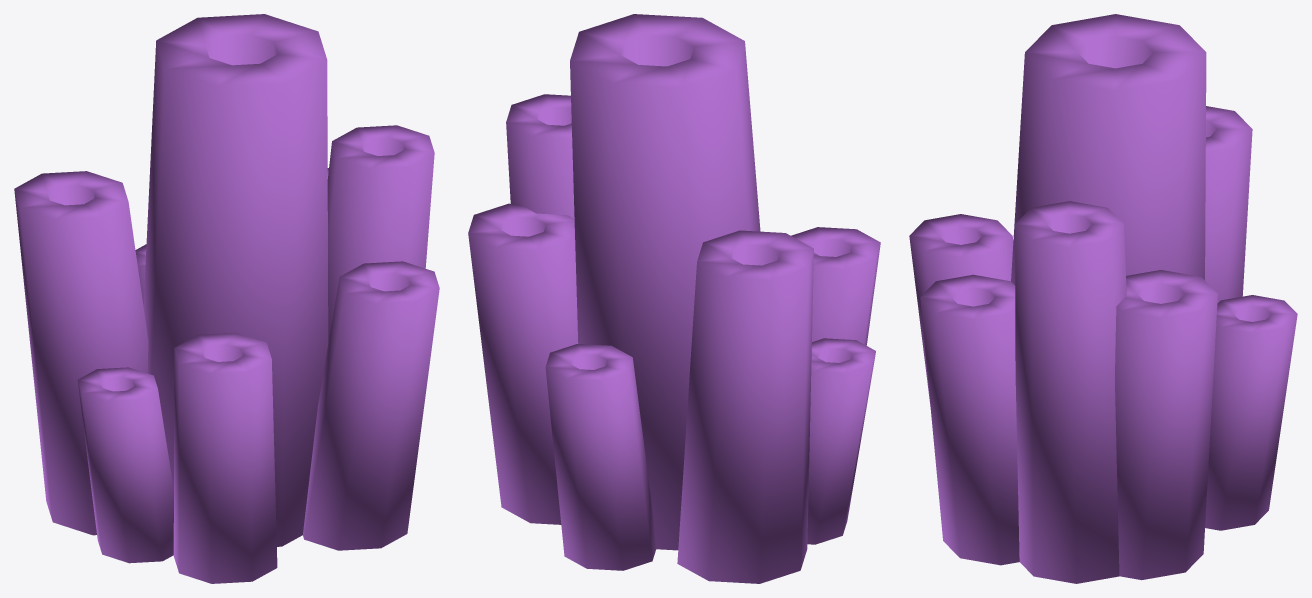
Rendered from Large2.fbx.
The picture shows the model from 3 angles, left to right: view 1: azimuth 30°, elevation 25°; view 2: azimuth 150°, elevation 25°; view 3: azimuth 270°, elevation 25°; orthographic projection. The views are drawn at different scales.
Parts seen in each view (by area): view 1: Large2; view 2: Large2; view 3: Large2.
Part boxes in pixels (<box>): Large2: <box>14,14,439,583</box>; Large2: <box>468,14,880,583</box>; Large2: <box>909,14,1297,583</box>.
Size of the model in its own units: 6.02 by 7.4 by 5.65.
